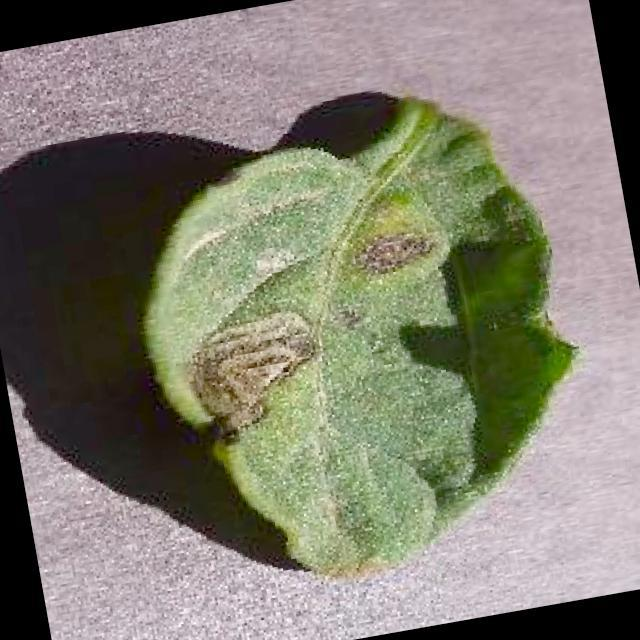Tomato Early blight leaf: (117, 76, 607, 614)
